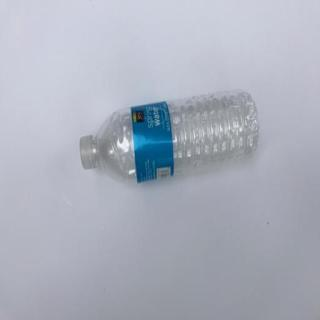Plastic-bottle: (80, 91, 261, 187)
